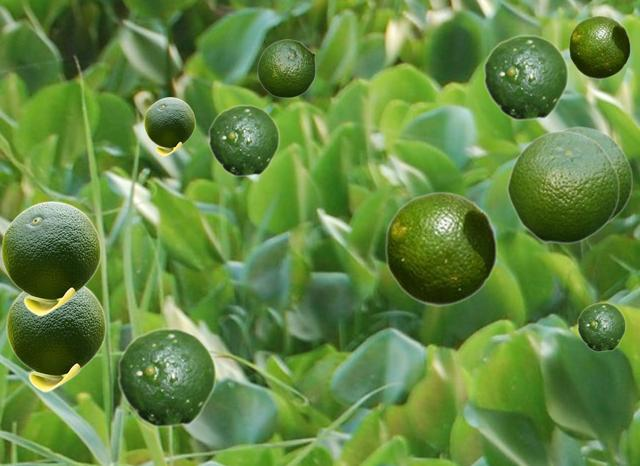calamansi: (384, 191, 497, 305), (506, 129, 619, 243), (1, 201, 100, 315), (6, 286, 105, 391), (117, 327, 216, 427), (483, 34, 568, 120), (562, 125, 632, 224), (208, 104, 279, 176), (568, 15, 630, 78), (257, 39, 315, 97), (144, 97, 194, 155), (577, 302, 625, 351)
